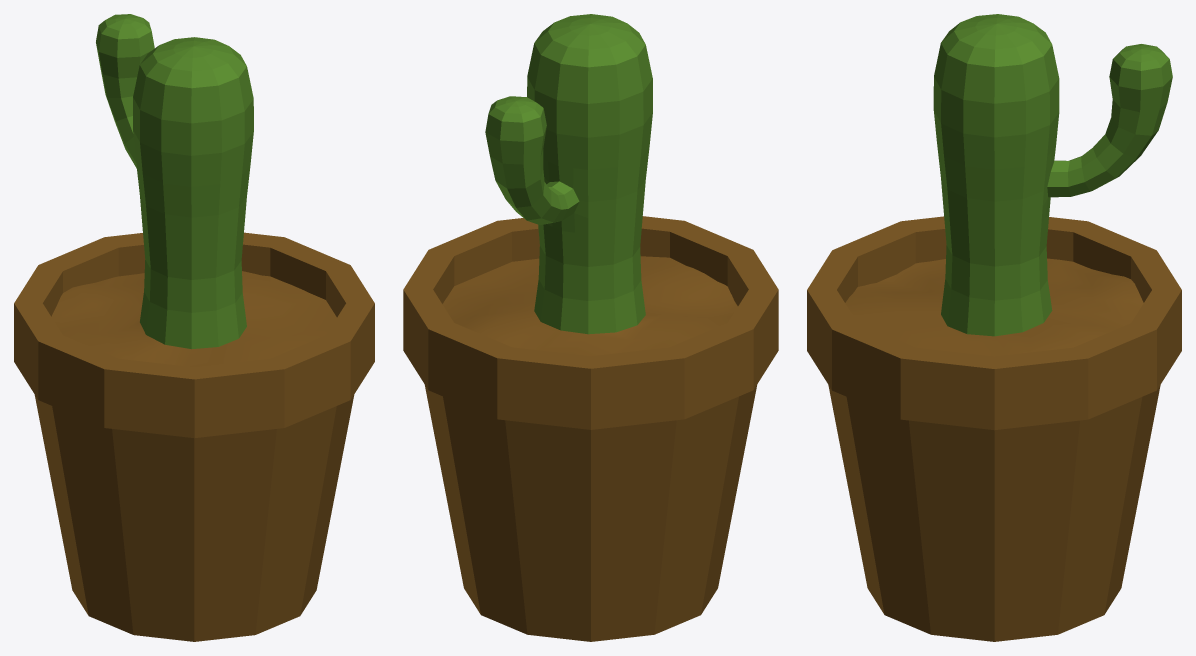
File: CactusRoto.fbx
The picture shows the model from 3 angles, left to right: view 1: azimuth 30°, elevation 25°; view 2: azimuth 150°, elevation 25°; view 3: azimuth 270°, elevation 25°; orthographic projection. The views are drawn at different scales.
Parts seen in each view (by area): view 1: MacetaRota, cactusRoto; view 2: MacetaRota, cactusRoto; view 3: MacetaRota, cactusRoto.
Boxes of the visible parts, bbox=[...] form: MacetaRota: bbox=[14, 232, 374, 641]; cactusRoto: bbox=[96, 14, 253, 349]; MacetaRota: bbox=[403, 216, 778, 641]; cactusRoto: bbox=[485, 14, 652, 334]; MacetaRota: bbox=[807, 216, 1181, 641]; cactusRoto: bbox=[933, 14, 1172, 336].
Size of the model in its own units: 22.37 by 37.17 by 22.37.
